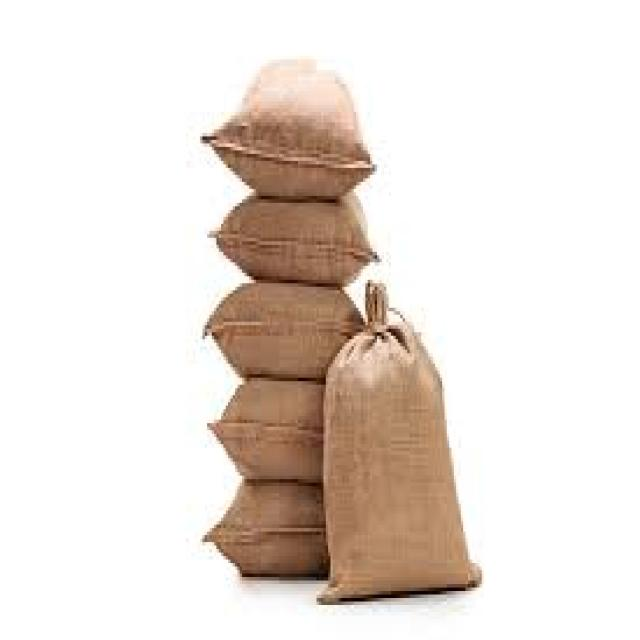sack: (314, 280, 482, 604), (197, 55, 379, 201), (208, 184, 379, 287), (200, 282, 371, 379), (207, 375, 332, 486), (202, 478, 332, 582)
